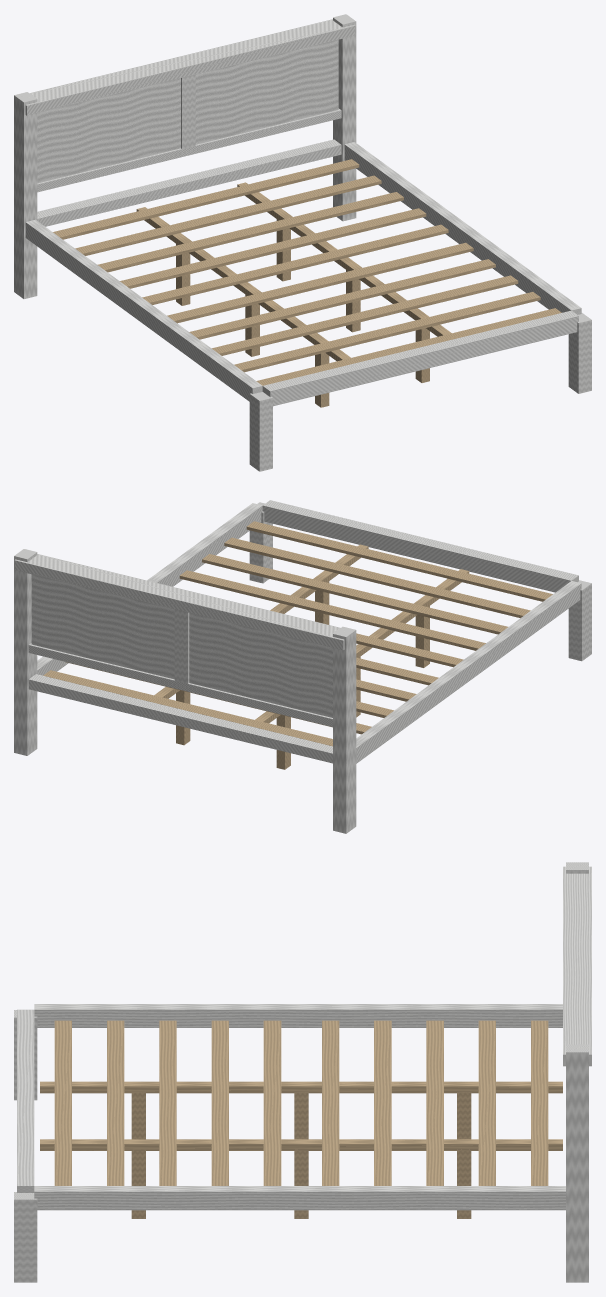
3 renders of one model, top to bottom at view 1: azimuth 30°, elevation 25°; view 2: azimuth 150°, elevation 25°; view 3: azimuth 270°, elevation 25°, orthographic. The views are drawn at different scales.
Visible parts, largest first — view 1: 6 headboard_left_panel, 7 headboard_right_panel, 11 footboard_rail, 3 headboard_top_rail, 12 left_side_rail, 5 headboard_lower_rail, 13 right_side_rail, 1 headboard_left_post, 22 slat_1, 23 slat_2, 25 slat_4, 27 slat_6 (+13 smaller); view 2: 6 headboard_left_panel, 7 headboard_right_panel, 11 footboard_rail, 3 headboard_top_rail, 12 left_side_rail, 5 headboard_lower_rail, 1 headboard_left_post, 2 headboard_right_post, 31 slat_10, 28 slat_7, 29 slat_8, 30 slat_9 (+12 smaller); view 3: 13 right_side_rail, 12 left_side_rail, 2 headboard_right_post, 3 headboard_top_rail, 14 left_center_beam, 15 right_center_beam, 11 footboard_rail, 27 slat_6, 24 slat_3, 25 slat_4, 29 slat_8, 22 slat_1 (+13 smaller).
Part boxes in pixels (box(x1,y1,x2,y2)): 6 headboard_left_panel: box(37, 78, 180, 183); 7 headboard_right_panel: box(195, 39, 338, 144); 11 footboard_rail: box(262, 310, 578, 406); 3 headboard_top_rail: box(25, 19, 355, 115); 12 left_side_rail: box(25, 219, 262, 401); 5 headboard_lower_rail: box(37, 139, 341, 226); 13 right_side_rail: box(344, 142, 581, 314); 1 headboard_left_post: box(14, 92, 37, 298); 22 slat_1: box(53, 159, 359, 239); 23 slat_2: box(75, 175, 381, 255); 25 slat_4: box(120, 208, 426, 288); 27 slat_6: box(167, 242, 473, 323); 6 headboard_left_panel: box(189, 613, 332, 717); 7 headboard_right_panel: box(31, 574, 174, 679); 11 footboard_rail: box(262, 500, 578, 592); 3 headboard_top_rail: box(14, 554, 344, 650); 12 left_side_rail: box(356, 581, 581, 763); 5 headboard_lower_rail: box(28, 674, 332, 763); 1 headboard_left_post: box(333, 626, 356, 833); 2 headboard_right_post: box(14, 549, 37, 755); 31 slat_10: box(246, 521, 552, 601); 28 slat_7: box(179, 570, 485, 650); 29 slat_8: box(202, 554, 507, 634); 30 slat_9: box(224, 537, 530, 617); 13 right_side_rail: box(34, 1186, 565, 1210); 12 left_side_rail: box(34, 1004, 562, 1027); 2 headboard_right_post: box(566, 1044, 588, 1282); 3 headboard_top_rail: box(563, 866, 591, 1066); 14 left_center_beam: box(40, 1081, 562, 1093); 15 right_center_beam: box(40, 1139, 562, 1150); 11 footboard_rail: box(17, 1009, 34, 1192); 27 slat_6: box(263, 1020, 281, 1185); 24 slat_3: box(426, 1020, 443, 1185); 25 slat_4: box(374, 1020, 391, 1185); 29 slat_8: box(159, 1020, 176, 1185); 22 slat_1: box(531, 1020, 548, 1185).
Bounding box in the file's own units: 1.77 × 1 × 2.27.
Materials: 2 (2 with a texture image).
